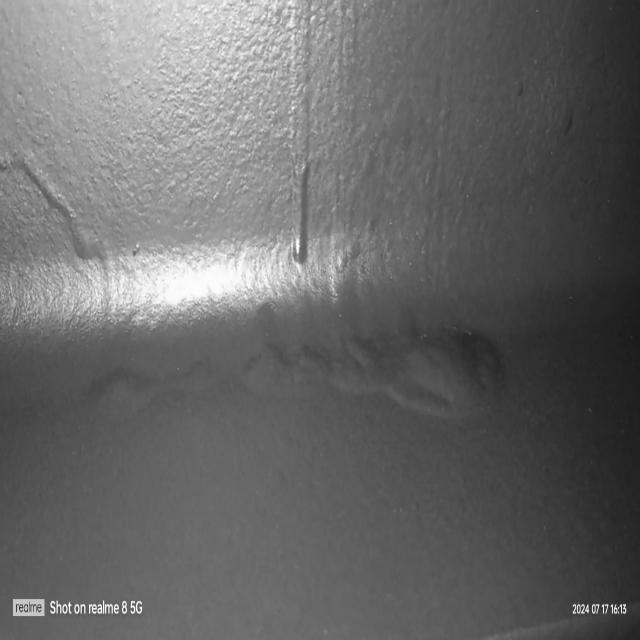paint drips: (282, 0, 364, 282), (0, 133, 114, 274)
